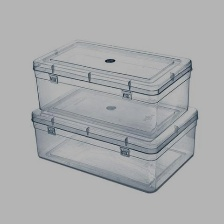plastic_box: (24, 81, 205, 196), (26, 33, 198, 146)
